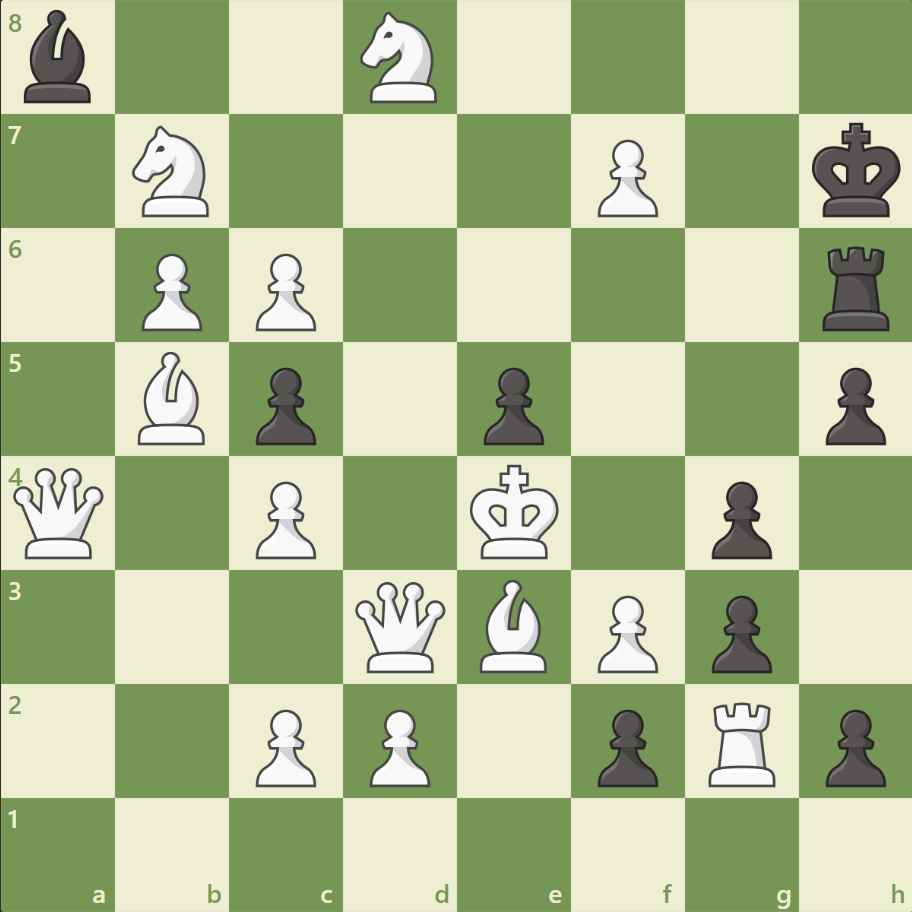B: (131, 347, 215, 449), (471, 574, 555, 676)
K: (465, 458, 565, 566)
N: (351, 7, 449, 110), (124, 121, 222, 223)
P: (133, 246, 208, 337), (247, 246, 322, 337), (247, 473, 322, 564), (247, 700, 322, 791), (588, 132, 662, 223), (588, 586, 662, 677), (361, 700, 435, 791)
Q: (351, 576, 450, 676), (10, 463, 109, 562)
R: (700, 693, 783, 790)
b: (17, 6, 101, 109)
k: (806, 117, 906, 225)
p: (247, 359, 322, 450), (474, 359, 549, 450), (701, 473, 776, 564), (701, 586, 776, 677), (815, 359, 889, 450), (588, 700, 662, 791), (815, 700, 889, 791)
r: (814, 239, 897, 336)
